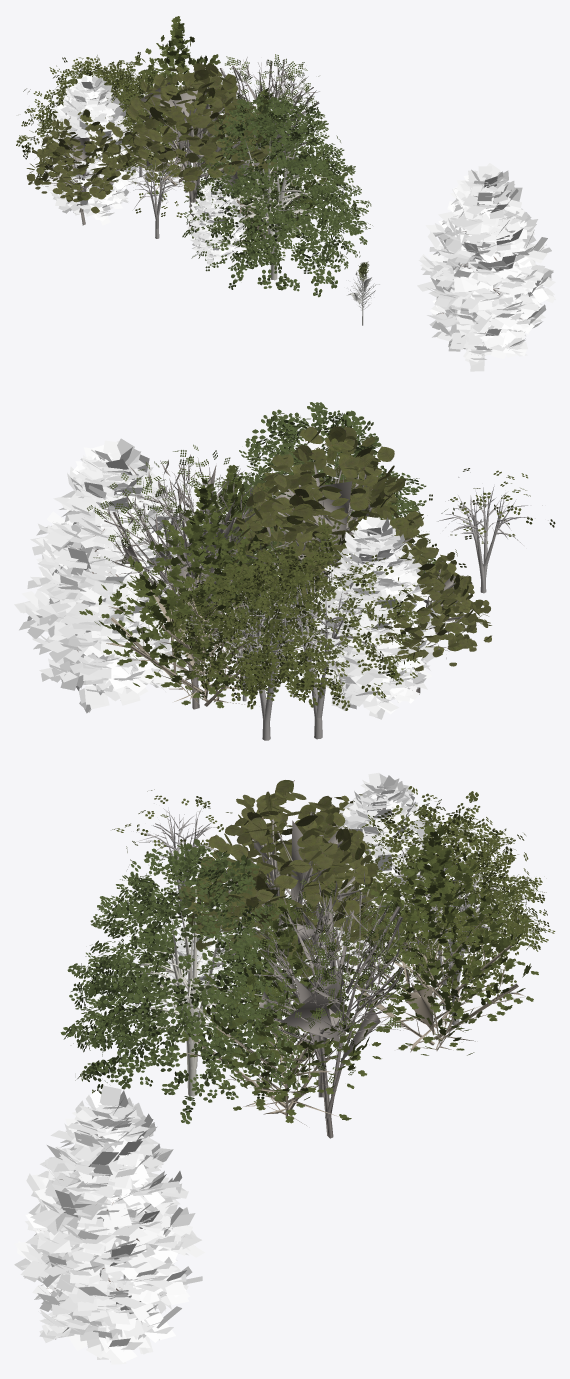
3 views of the same model, one above another, from view 1: azimuth 30°, elevation 25°; view 2: azimuth 150°, elevation 25°; view 3: azimuth 270°, elevation 25° (orthographic). The views are drawn at different scales.
Visible parts, largest first — view 1: TL_tree_154_UNVERIFIED, TL_tree_156_UNVERIFIED, TL_tree_158_UNVERIFIED, TL_tree_155_UNVERIFIED, TL_tree_159_UNVERIFIED, TL_tree_160_UNVERIFIED, TL_tree_153_UNVERIFIED; view 2: TL_tree_154_UNVERIFIED, TL_tree_155_UNVERIFIED, TL_tree_158_UNVERIFIED, TL_tree_159_UNVERIFIED, TL_tree_160_UNVERIFIED, TL_tree_156_UNVERIFIED; view 3: TL_tree_154_UNVERIFIED, TL_tree_156_UNVERIFIED, TL_tree_159_UNVERIFIED, TL_tree_158_UNVERIFIED, TL_tree_155_UNVERIFIED, TL_tree_160_UNVERIFIED.
Boxes of the visible parts, x1,y1,x2,y2 form: TL_tree_154_UNVERIFIED: [39, 74, 555, 371]; TL_tree_156_UNVERIFIED: [182, 95, 372, 297]; TL_tree_158_UNVERIFIED: [26, 63, 276, 226]; TL_tree_155_UNVERIFIED: [16, 52, 198, 238]; TL_tree_159_UNVERIFIED: [111, 16, 347, 251]; TL_tree_160_UNVERIFIED: [217, 54, 321, 240]; TL_tree_153_UNVERIFIED: [346, 261, 379, 325]; TL_tree_154_UNVERIFIED: [14, 438, 441, 719]; TL_tree_155_UNVERIFIED: [156, 468, 555, 740]; TL_tree_158_UNVERIFIED: [228, 426, 491, 694]; TL_tree_159_UNVERIFIED: [79, 465, 318, 708]; TL_tree_160_UNVERIFIED: [87, 444, 281, 709]; TL_tree_156_UNVERIFIED: [198, 402, 436, 674]; TL_tree_154_UNVERIFIED: [14, 772, 442, 1364]; TL_tree_156_UNVERIFIED: [60, 839, 324, 1124]; TL_tree_159_UNVERIFIED: [175, 824, 538, 1125]; TL_tree_158_UNVERIFIED: [178, 780, 406, 1015]; TL_tree_155_UNVERIFIED: [112, 786, 555, 1025]; TL_tree_160_UNVERIFIED: [235, 871, 435, 1138].
Size of the model in its own units: 64.99 by 43.58 by 51.57.
Materials: 14 (6 with a texture image).
